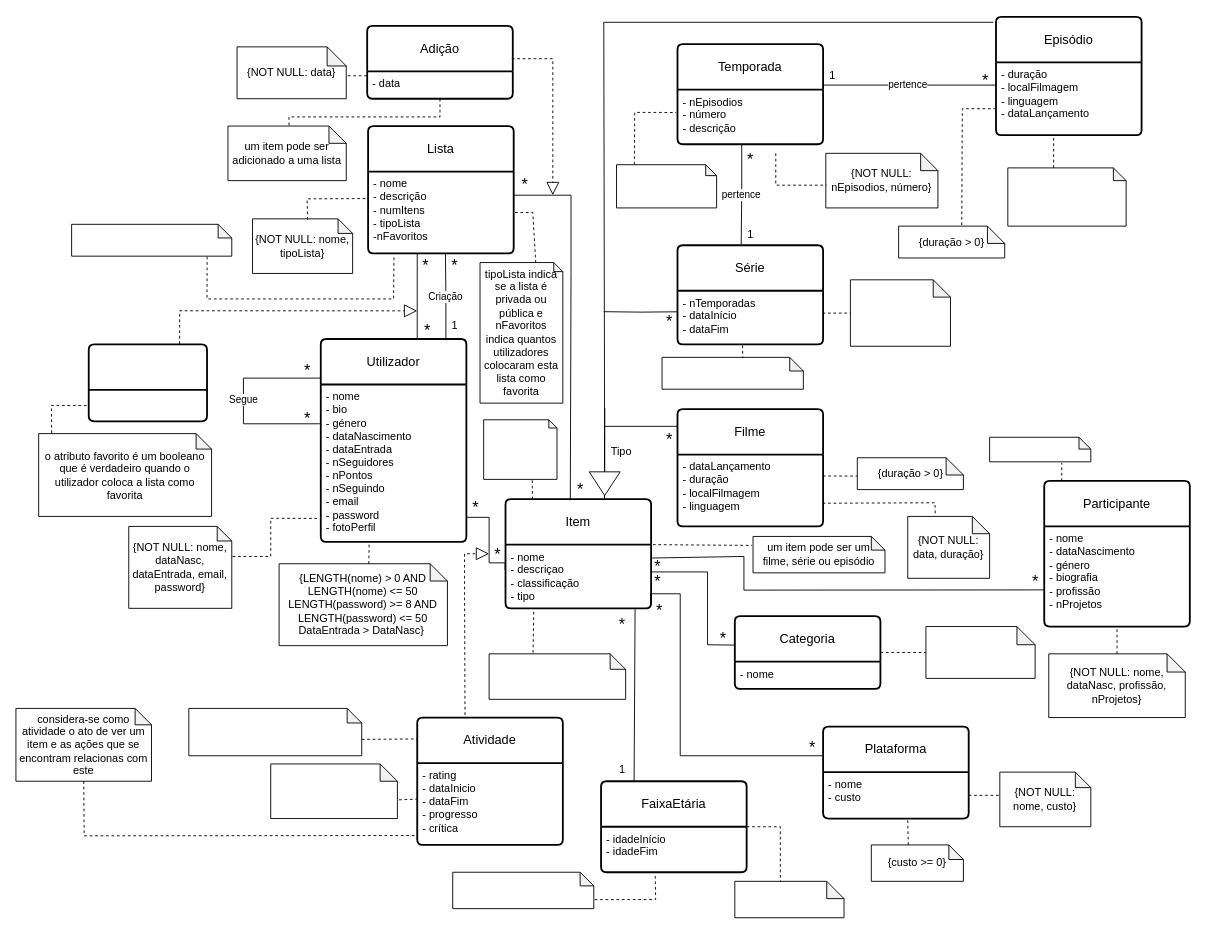
This 1207x934 diagram has some shape labels left out. The shapes that lost their labels are listed below. From the top down, each one's centre as x and y in pixels, then its label:
the point at 666,186: {nEpisódios > 0 número > 0}
the point at 1066,196: {NOT NULL: duração, dataLançamento}
the point at 151,239: {LENGTH(nome) > 0 AND LENGTH(nome) <= 50}
the point at 899,312: {NOT NULL: nTemporadas, dataInício}
the point at 147,382: - favorito
the point at 732,372: {dataInício <= dataFim nTemporadas > 0}
the point at 520,449: {NOT NULL: nome, classificação}
the point at 1040,449: {nProjetos > 0}
the point at 980,652: {NOT NULL: nome}
the point at 557,676: {LENGTH(nome) > 0 classificação >= 0 AND classificação <= 10}
the point at 275,732: {rating >= 0 AND rating <= 10 dataInício <= dataFim progresso >= 0}
the point at 333,791: {NOT NULL: rating, dataInício, progresso}
the point at 523,890: {idadeInício < idadeFim}
the point at 789,899: {NOT NULL: idadeInício}
